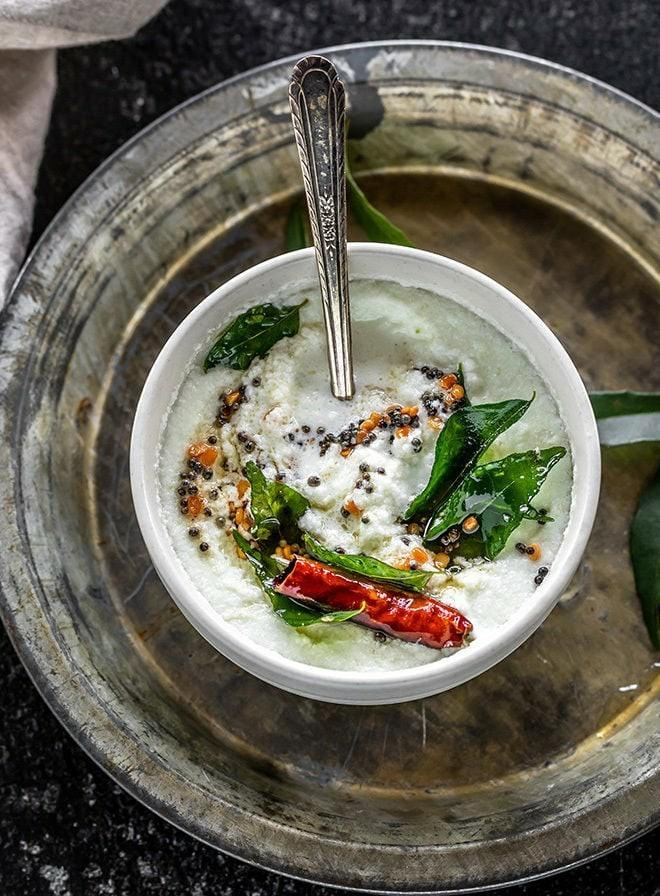CoconutChutney: (163, 279, 572, 659)
